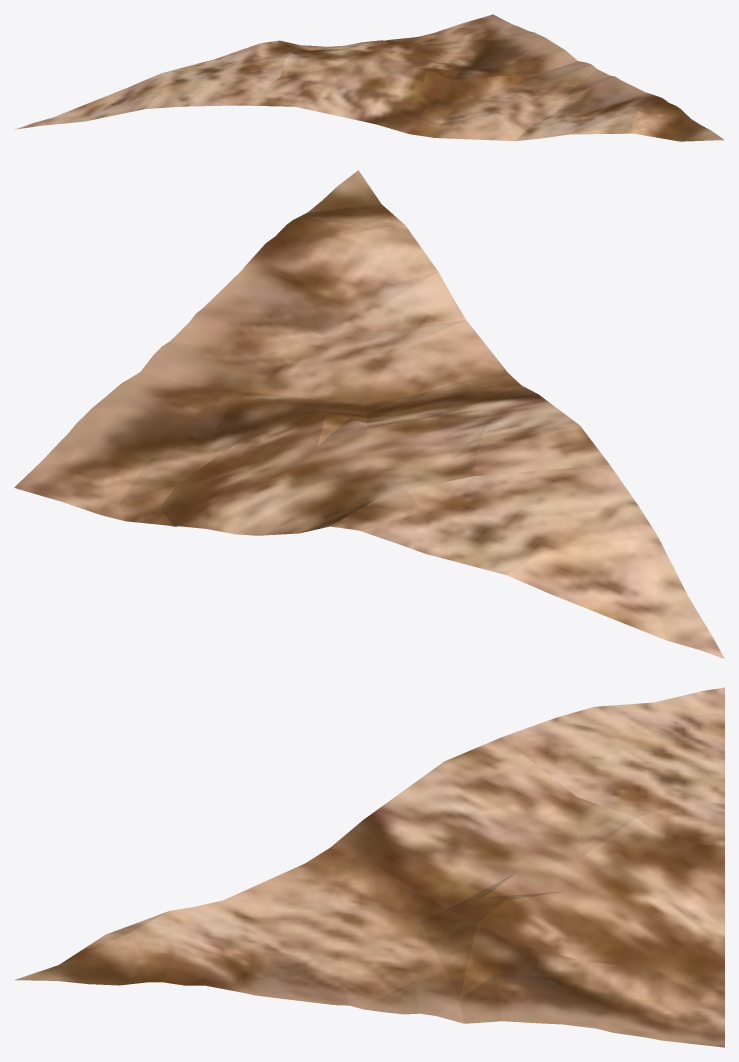
The picture shows the model from 3 angles, top to bottom: view 1: azimuth 30°, elevation 25°; view 2: azimuth 150°, elevation 25°; view 3: azimuth 270°, elevation 25°; orthographic projection. The views are drawn at different scales.
Size of the model in its own units: 0.4365 by 0.0444 by 0.3663.
Materials: 1 (1 with a texture image).
